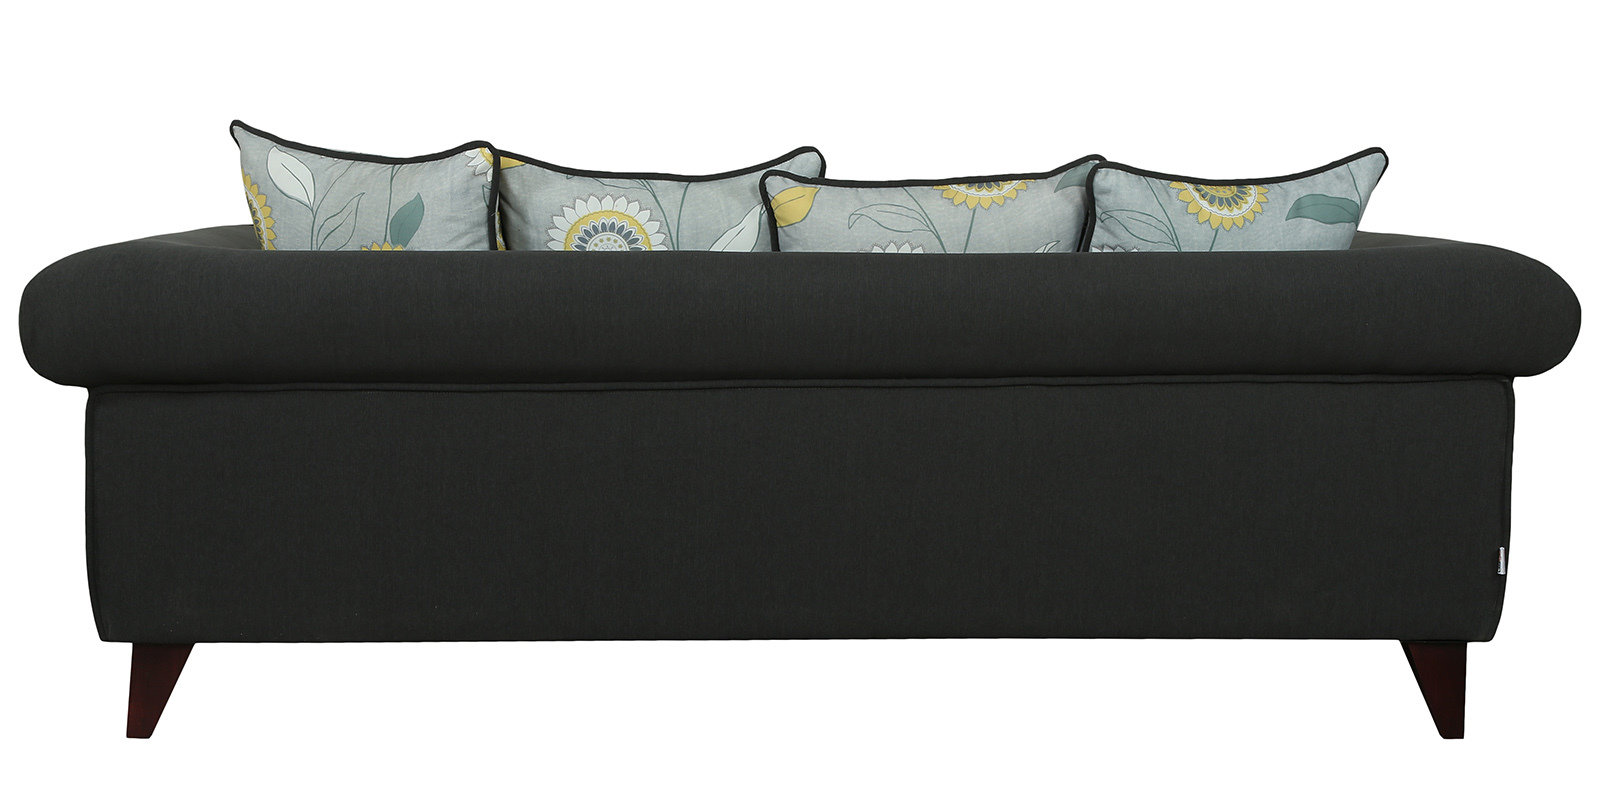Cielo Three Seater Sofa in Charcoal Grey Colour by CasaCraft: (16, 121, 1600, 750)
